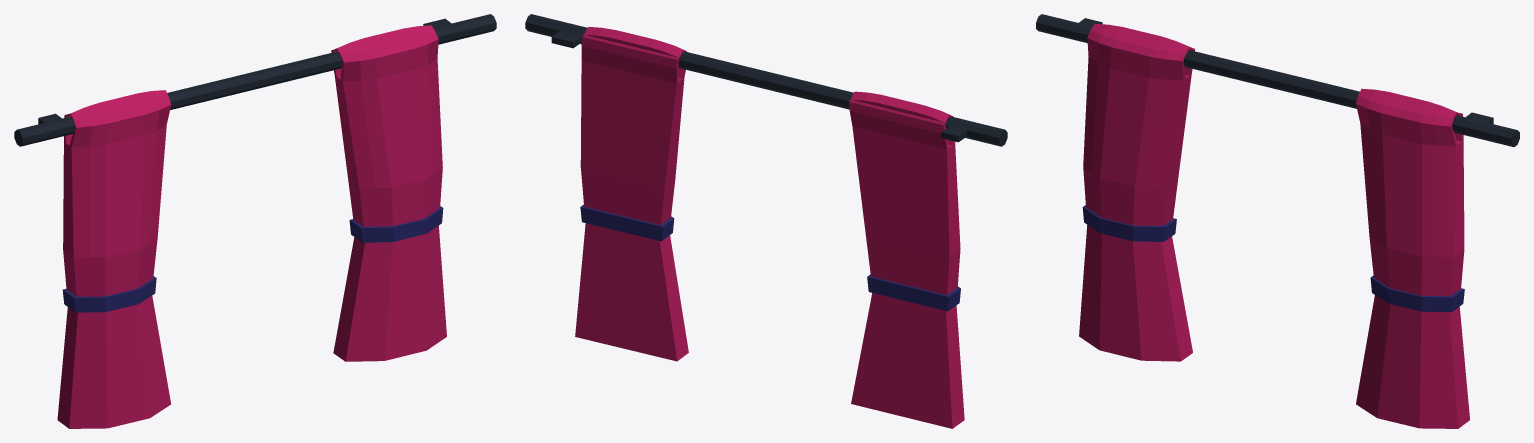
The model's file is Interior_CurtainSet.fbx.
The picture shows the model from 3 angles, left to right: view 1: azimuth 30°, elevation 25°; view 2: azimuth 150°, elevation 25°; view 3: azimuth 330°, elevation 25°; orthographic projection.
Visible parts, largest first — view 1: Cylinder.150, Cylinder.152, Cylinder.149; view 2: Cylinder.152, Cylinder.150, Cylinder.149; view 3: Cylinder.152, Cylinder.150, Cylinder.149.
Part boxes in pixels (x1,y1,x2,y2): Cylinder.150: [57, 90, 171, 428]; Cylinder.152: [331, 25, 446, 361]; Cylinder.149: [14, 14, 496, 146]; Cylinder.152: [575, 26, 688, 361]; Cylinder.150: [849, 91, 964, 428]; Cylinder.149: [525, 14, 1007, 146]; Cylinder.152: [1356, 88, 1469, 428]; Cylinder.150: [1079, 23, 1194, 361]; Cylinder.149: [1036, 14, 1519, 146].
Size of the model in its own units: 217 by 136 by 22.
